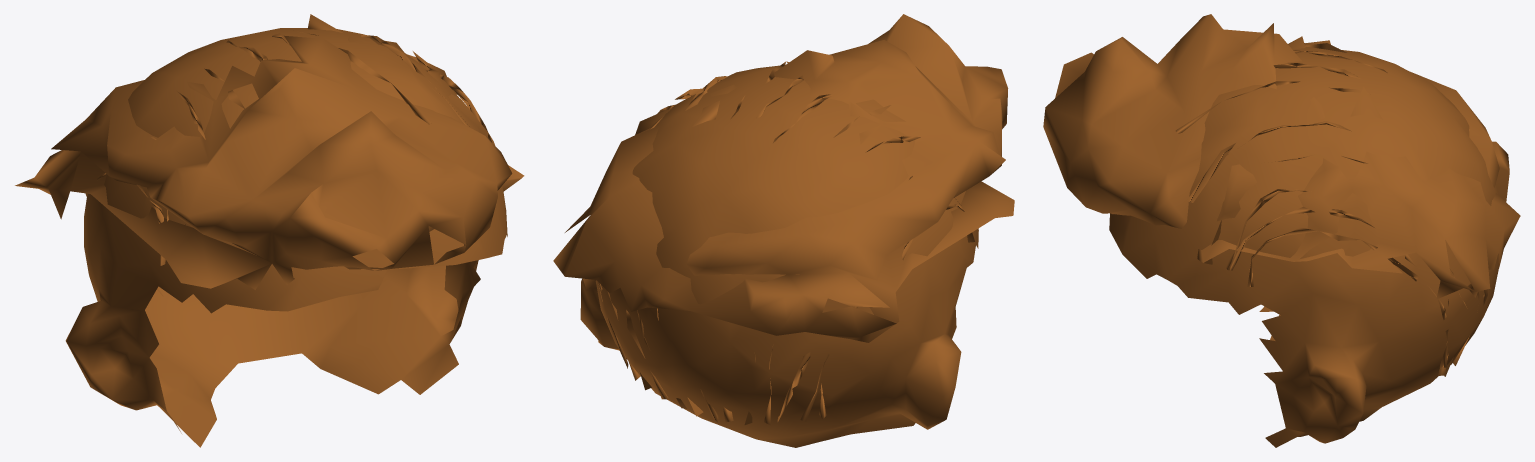
Rendered from quiff.glb.
The picture shows the model from 3 angles, left to right: view 1: azimuth 30°, elevation 25°; view 2: azimuth 150°, elevation 25°; view 3: azimuth 270°, elevation 25°; orthographic projection. The views are drawn at different scales.
Parts seen in each view (by area): view 1: Hair, HairScalp, HairPulledRootStrands; view 2: HairScalp, Hair, HairPulledRootStrands; view 3: HairScalp, Hair, HairPulledRootStrands.
Boxes of the visible parts, bbox=[...] form: Hair: bbox=[15, 14, 524, 289]; HairScalp: bbox=[65, 28, 507, 447]; HairPulledRootStrands: bbox=[85, 31, 495, 296]; HairScalp: bbox=[580, 65, 978, 447]; Hair: bbox=[553, 14, 1014, 342]; HairPulledRootStrands: bbox=[597, 61, 974, 424]; HairScalp: bbox=[1109, 46, 1498, 447]; Hair: bbox=[1043, 14, 1520, 299]; HairPulledRootStrands: bbox=[1175, 43, 1487, 376].
Bounding box in the file's own units: 0.4645 × 0.4251 × 0.5034.
